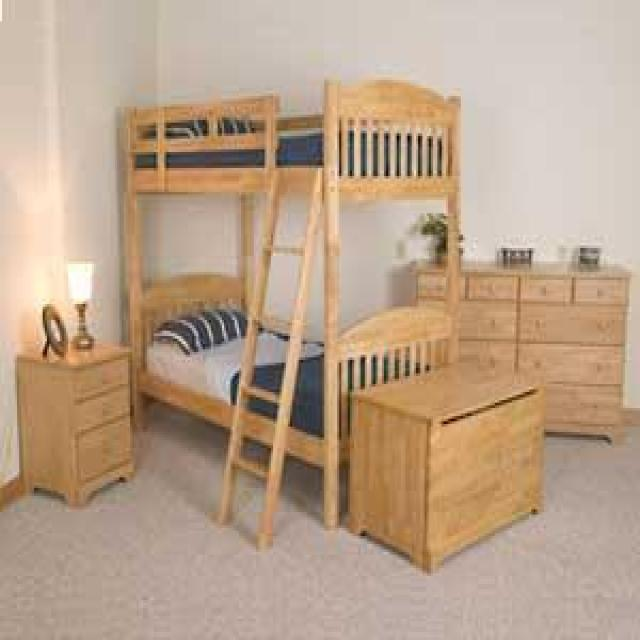bed: (119, 75, 463, 544)
cupboard: (412, 258, 631, 442)
lamps: (66, 259, 94, 349)
pillows: (152, 304, 258, 355)
plants: (412, 208, 463, 261)
table: (346, 355, 546, 573)
